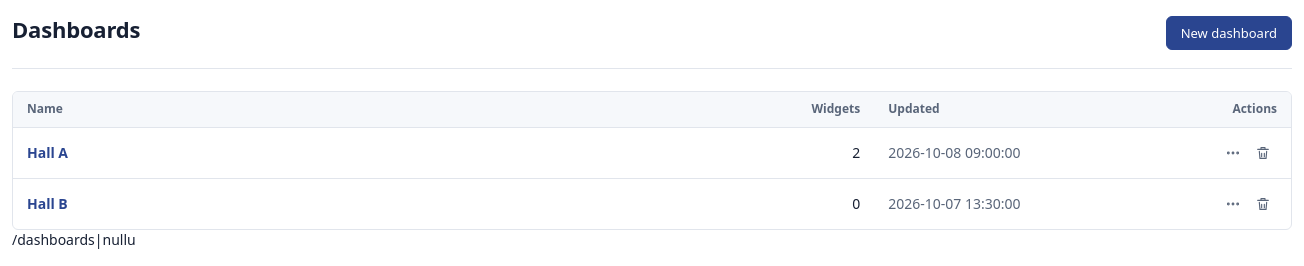
Test: DashboardsPage › gives an operator two controls per row: the menu (Make a copy only) and the trash button named for the dashboard
Check: the link "Hall A" is shown, box [27,143,68,163]
Click the button named "Actions for Hall A": (1233, 153) [1219,139,1247,167]
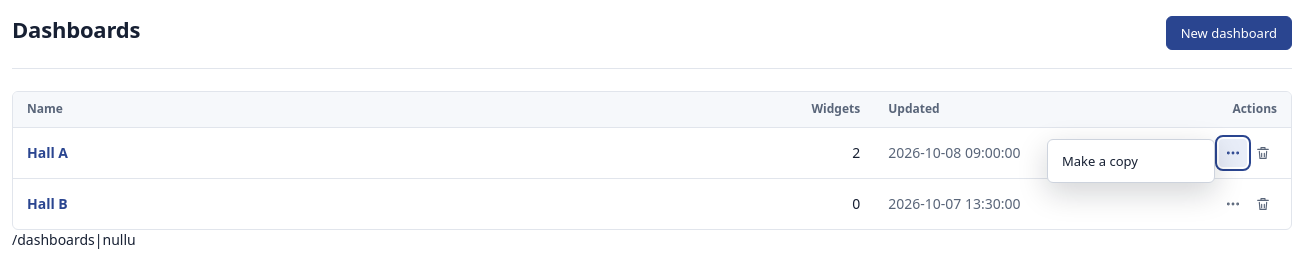
Check: the menu items read "Make a copy", in this order, box [1052,144,1210,178]
